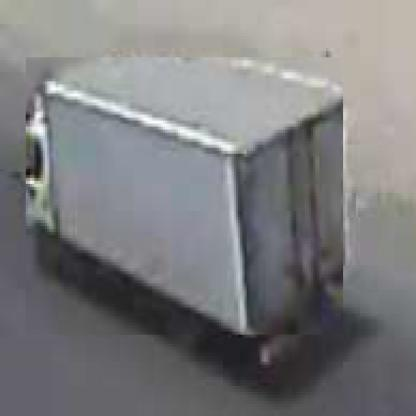truck: (27, 58, 346, 339)
